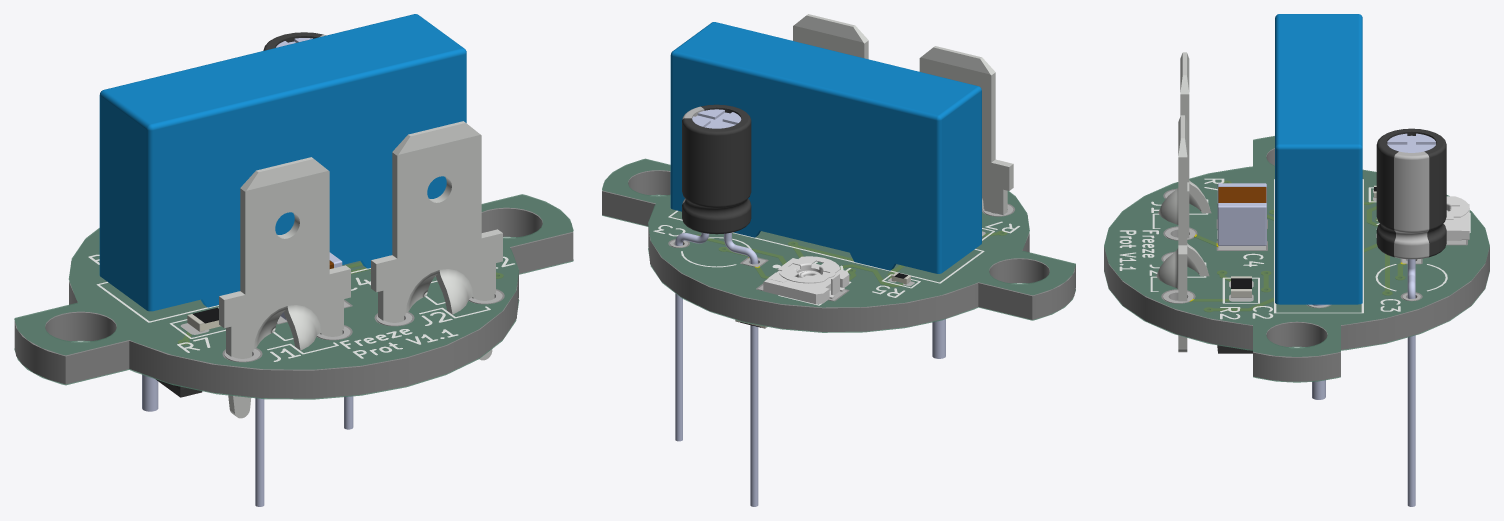
File: board.glb
The picture shows the model from 3 angles, left to right: view 1: azimuth 30°, elevation 25°; view 2: azimuth 150°, elevation 25°; view 3: azimuth 270°, elevation 25°; orthographic projection. The views are drawn at different scales.
Parts seen in each view (by area): view 1: C2, =>[0:1:1:22], =>[0:1:1:20], J1, J2, =>[0:1:1:18], C3, =>[0:1:1:16], =>[0:1:1:21]; view 2: C2, =>[0:1:1:22], =>[0:1:1:20], C3, J1, RV1, J2, =>[0:1:1:18], =>[0:1:1:21], =>[0:1:1:15], =>[0:1:1:16]; view 3: =>[0:1:1:22], C2, =>[0:1:1:20], C3, C4, J2, =>[0:1:1:18], J1, =>[0:1:1:16], RV1, =>[0:1:1:15], =>[0:1:1:21] (+1 smaller).
Boxes of the visible parts, left/top/right/bottom form: C2: left=99, top=14, right=466, bottom=411; =>[0:1:1:22]: left=14, top=195, right=573, bottom=398; =>[0:1:1:20]: left=14, top=194, right=573, bottom=369; J1: left=219, top=157, right=350, bottom=418; J2: left=371, top=121, right=502, bottom=360; =>[0:1:1:18]: left=88, top=254, right=514, bottom=361; C3: left=255, top=32, right=353, bottom=506; =>[0:1:1:16]: left=180, top=290, right=502, bottom=362; =>[0:1:1:21]: left=14, top=236, right=573, bottom=399; C2: left=670, top=22, right=981, bottom=358; =>[0:1:1:22]: left=602, top=160, right=1075, bottom=331; =>[0:1:1:20]: left=602, top=158, right=1075, bottom=307; C3: left=675, top=104, right=758, bottom=506; J1: left=919, top=46, right=1013, bottom=214; RV1: left=763, top=256, right=849, bottom=304; J2: left=793, top=14, right=868, bottom=59; =>[0:1:1:18]: left=653, top=210, right=1019, bottom=305; =>[0:1:1:21]: left=602, top=194, right=1075, bottom=332; =>[0:1:1:15]: left=699, top=231, right=1006, bottom=286; =>[0:1:1:16]: left=670, top=205, right=1013, bottom=301; =>[0:1:1:22]: left=1104, top=137, right=1489, bottom=381; C2: left=1275, top=14, right=1362, bottom=399; =>[0:1:1:20]: left=1104, top=136, right=1489, bottom=356; C3: left=1376, top=128, right=1446, bottom=506; C4: left=1217, top=183, right=1266, bottom=245; J2: left=1156, top=115, right=1209, bottom=352; =>[0:1:1:18]: left=1119, top=178, right=1470, bottom=319; J1: left=1158, top=52, right=1211, bottom=238; =>[0:1:1:16]: left=1163, top=190, right=1465, bottom=308; RV1: left=1443, top=196, right=1469, bottom=240; =>[0:1:1:15]: left=1189, top=181, right=1405, bottom=311; =>[0:1:1:21]: left=1104, top=271, right=1489, bottom=382.
Size of the model in its own units: 0.03 by 0.026 by 0.022.
